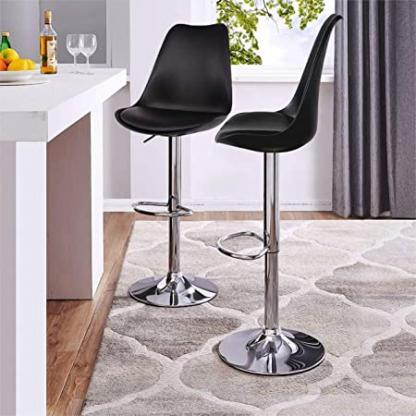chair: (213, 4, 362, 394), (113, 19, 227, 313)
table: (0, 50, 130, 416)
